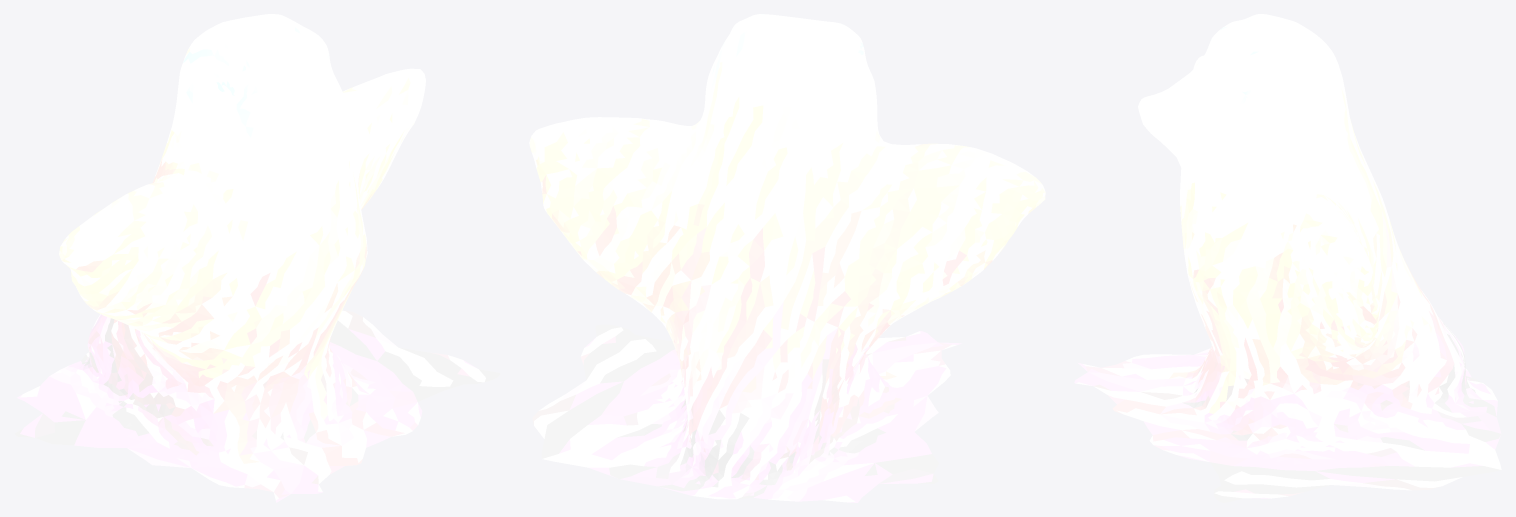
Rendered from bioavatar.glb.
The picture shows the model from 3 angles, left to right: view 1: azimuth 30°, elevation 25°; view 2: azimuth 150°, elevation 25°; view 3: azimuth 270°, elevation 25°; orthographic projection. The views are drawn at different scales.
Parts seen in each view (by area): view 1: bird.001; view 2: bird.001; view 3: bird.001.
Part boxes in pixels (x1,y1,x2,y2): bird.001: (14, 14, 500, 502); bird.001: (529, 14, 1045, 502); bird.001: (1074, 14, 1501, 502).
Size of the model in its own units: 3.2 by 2.7 by 2.73.
